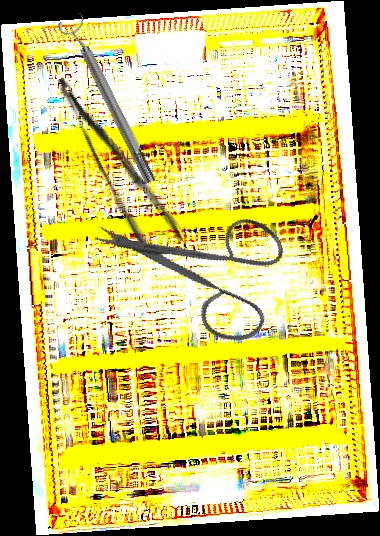Dressing Forceps: (53, 60, 187, 261)
Fixation Ring: (55, 11, 164, 189)
Iris Scissors: (89, 168, 308, 378)
